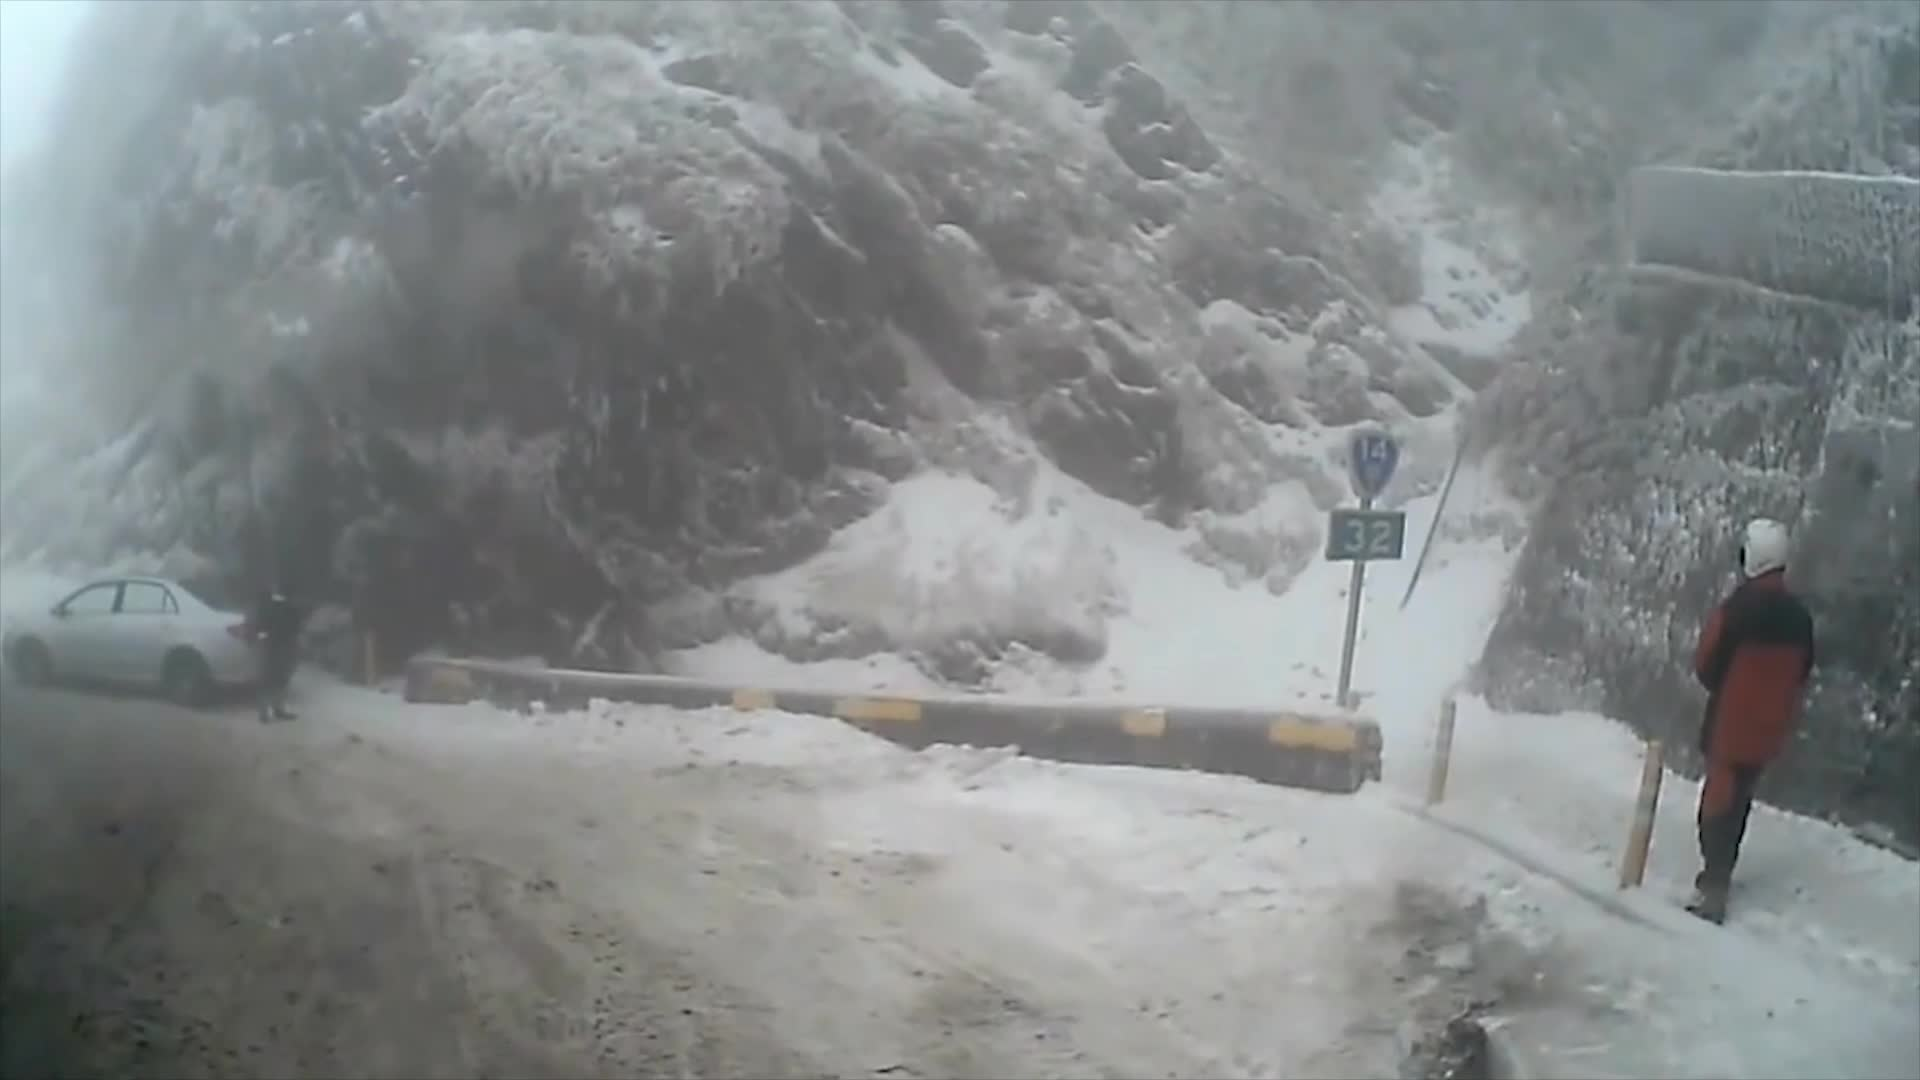pedestrian: (1675, 518, 1822, 927), (257, 579, 303, 721)
vehicle: (0, 571, 275, 707)
